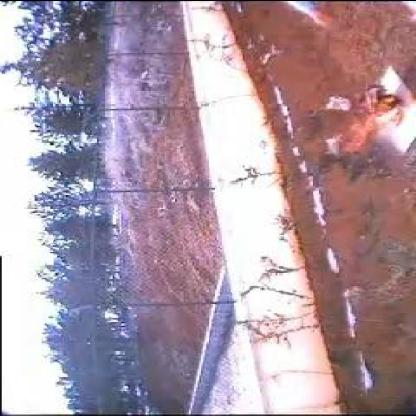-: (337, 114, 353, 126)
foggia-v2-map80-epoch100 - v1 4323: (348, 91, 402, 155)
